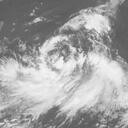cyclone: (37, 44, 117, 110)
